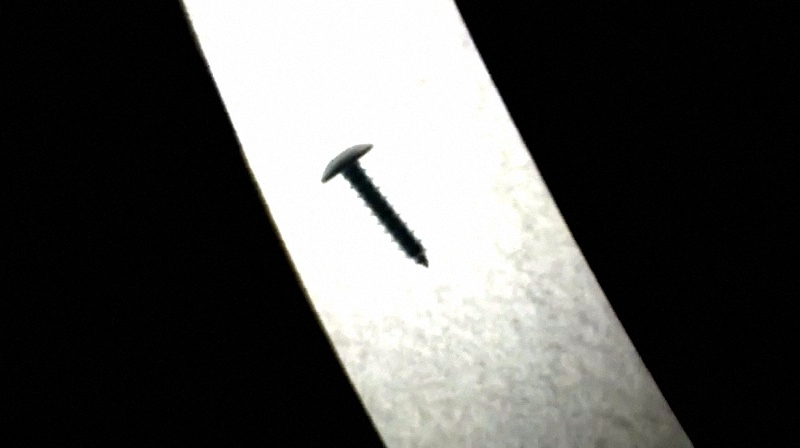S003: (315, 138, 435, 273)
